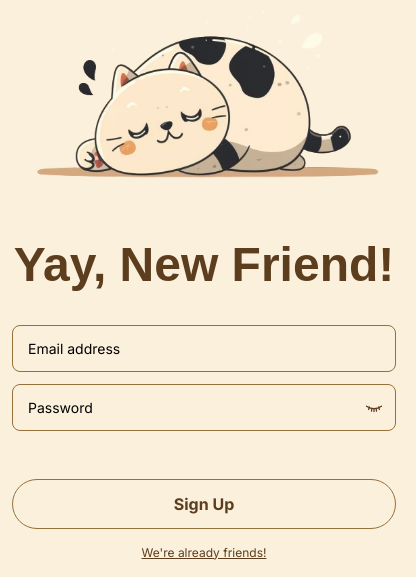
RegisterForm › disables the submit button while the mutation is pending
Step 1. Type "test@example.com" into the field with placeholder "Email address" → point(204, 348), box [12, 325, 396, 372]
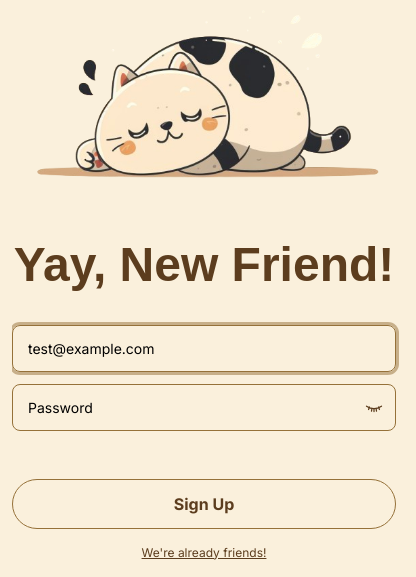
Step 2. Type "password123" into the password field with placeholder "Password" → point(204, 407), box [12, 384, 396, 431]
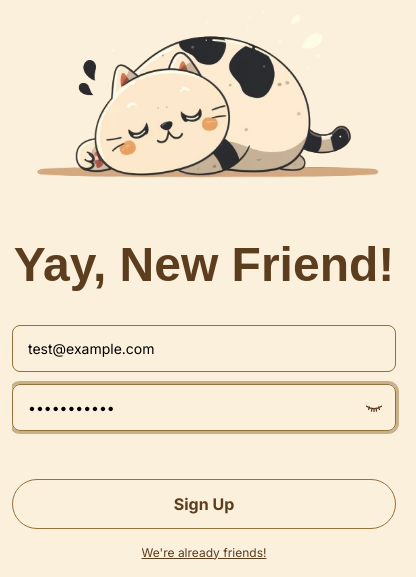
Step 3. Click the button "Sign Up" → point(204, 504), box [12, 479, 396, 529]
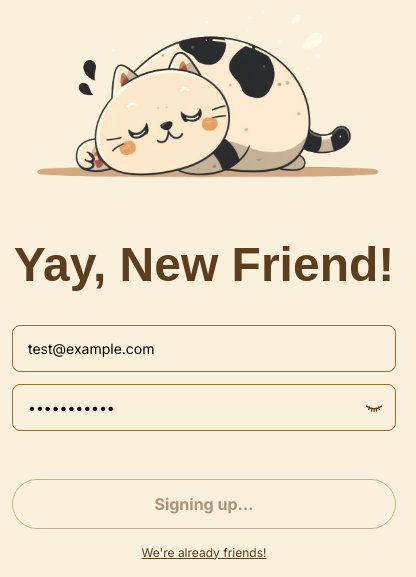
Result: the button "Signing up…" is disabled at [12, 479, 396, 529]
